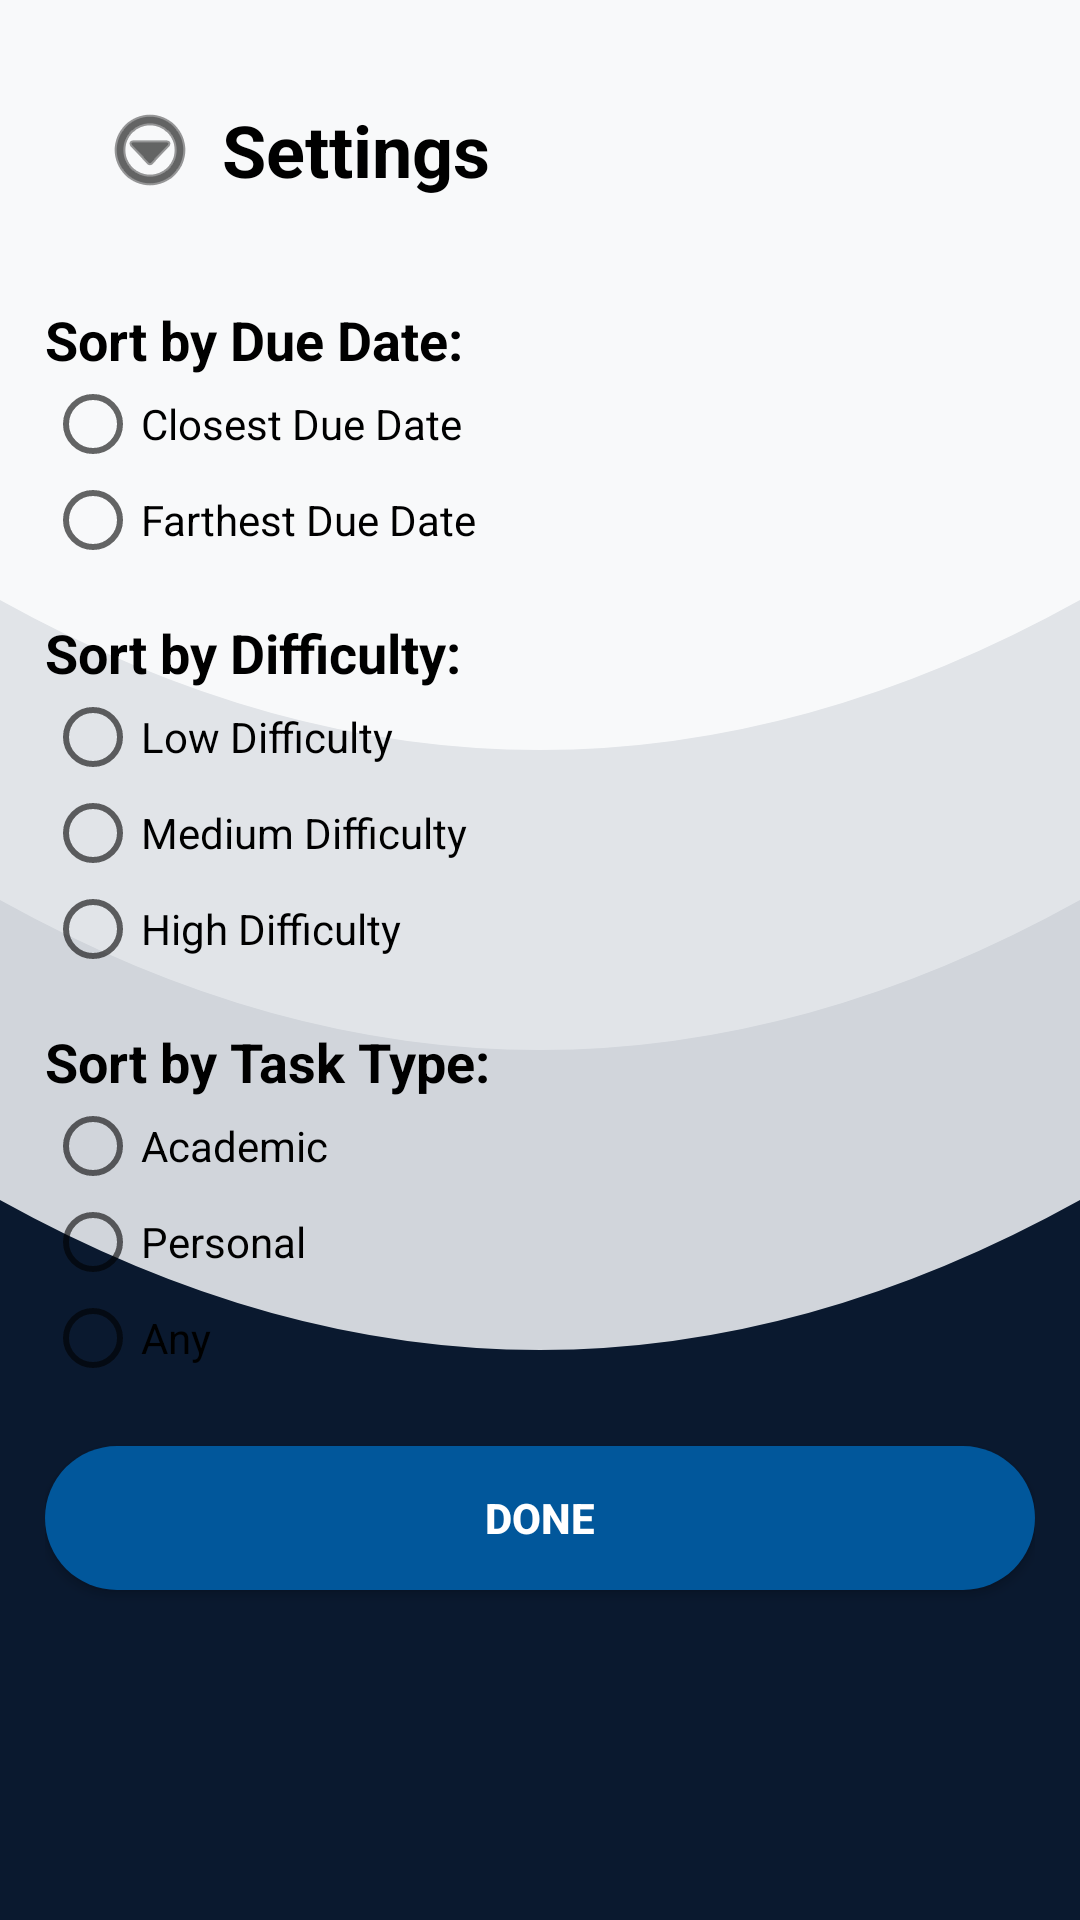

Where icons sit on this 1080 × 1920 app screen, as detection(x1, y1, x2, y2):
Menu: detection(114, 114, 186, 186)
